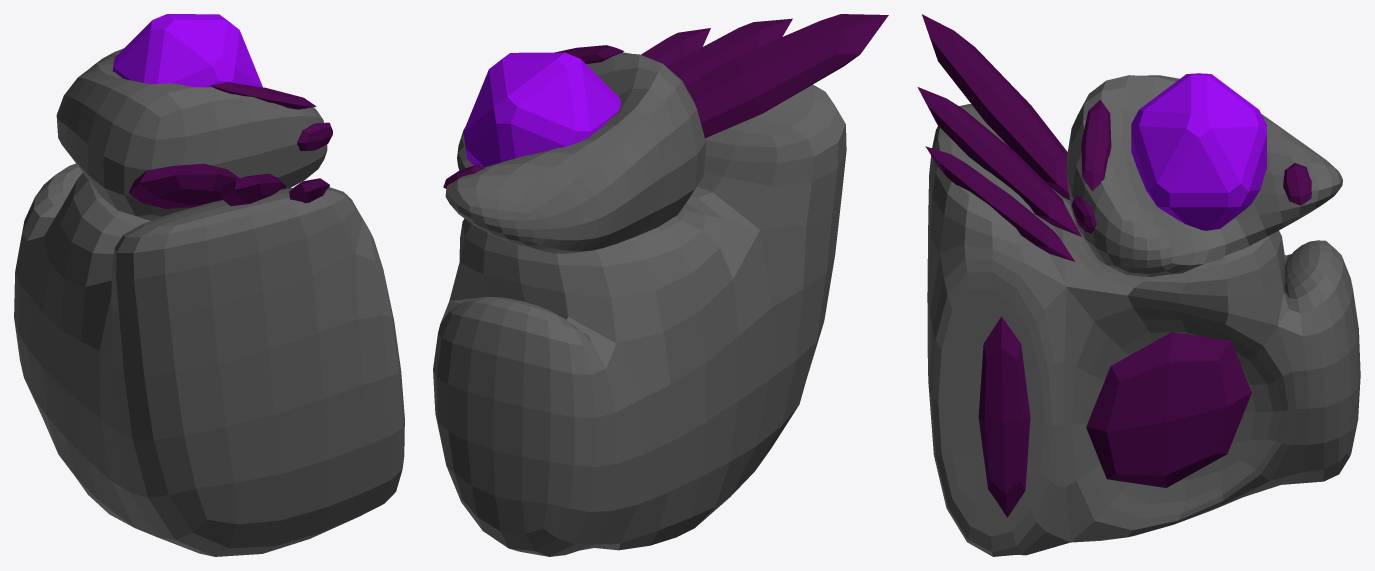
3 views of the same model, side by side, from view 1: azimuth 30°, elevation 25°; view 2: azimuth 150°, elevation 25°; view 3: azimuth 270°, elevation 25° (orthographic). The views are drawn at different scales.
Parts seen in each view (by area): view 1: Cube.002, Cube.003, Icosphere; view 2: Cube.002, Cube.003, Icosphere; view 3: Cube.002, Cube.003, Icosphere.
Part boxes in pixels (x1,y1,x2,y2): Cube.002: [14, 163, 404, 556]; Cube.003: [56, 48, 332, 220]; Icosphere: [112, 14, 262, 87]; Cube.002: [433, 14, 888, 556]; Cube.003: [443, 45, 705, 253]; Icosphere: [463, 52, 620, 166]; Cube.002: [917, 14, 1360, 556]; Cube.003: [1066, 75, 1342, 277]; Icosphere: [1131, 73, 1266, 230].
Bounding box in the file's own units: 46.08 × 70.09 × 61.27.
